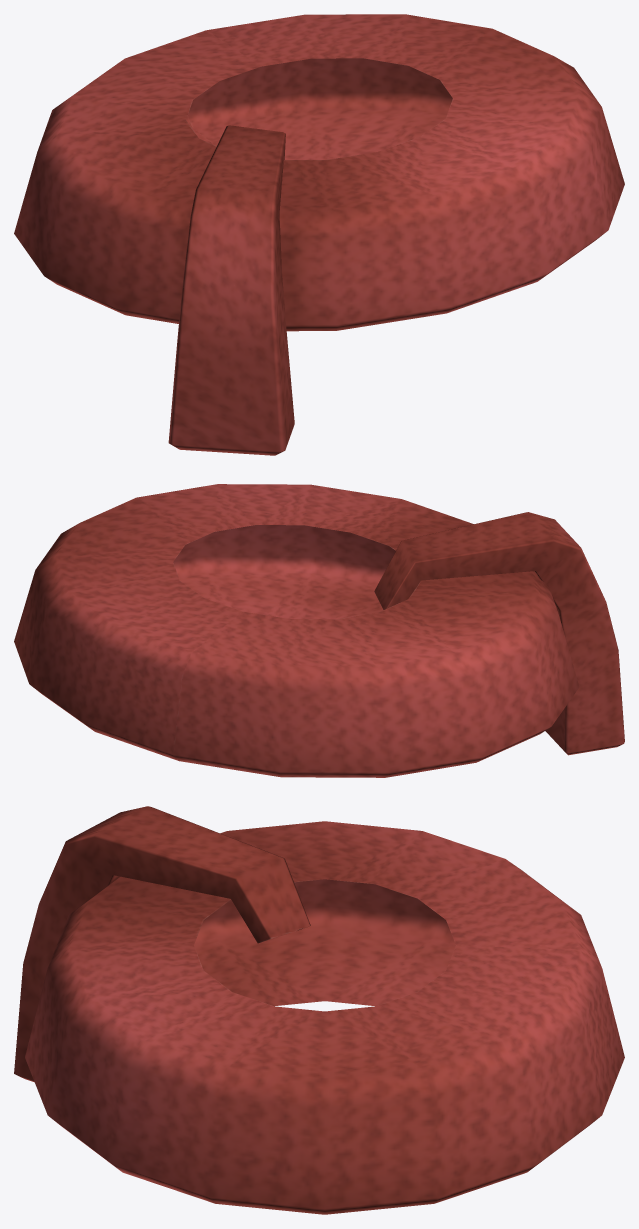
Rendered from SM_ScarfA.FBX.
3 views of the same model, one above another, from view 1: azimuth 30°, elevation 25°; view 2: azimuth 150°, elevation 25°; view 3: azimuth 270°, elevation 25° (orthographic). The views are drawn at different scales.
Parts seen in each view (by area): view 1: SM_ScarfA; view 2: SM_ScarfA; view 3: SM_ScarfA.
Part boxes in pixels (bbox=[...]): SM_ScarfA: bbox=[14, 14, 624, 455]; SM_ScarfA: bbox=[14, 484, 624, 777]; SM_ScarfA: bbox=[14, 806, 624, 1214].
Size of the model in its own units: 49.44 by 42.19 by 19.9.
